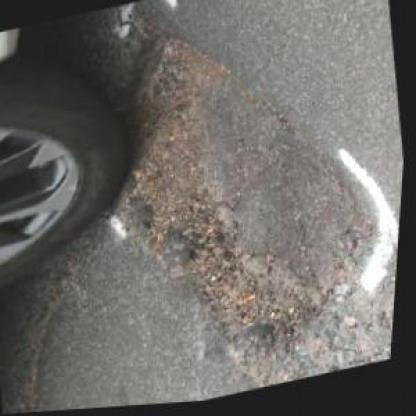pothole: (82, 0, 360, 370)
